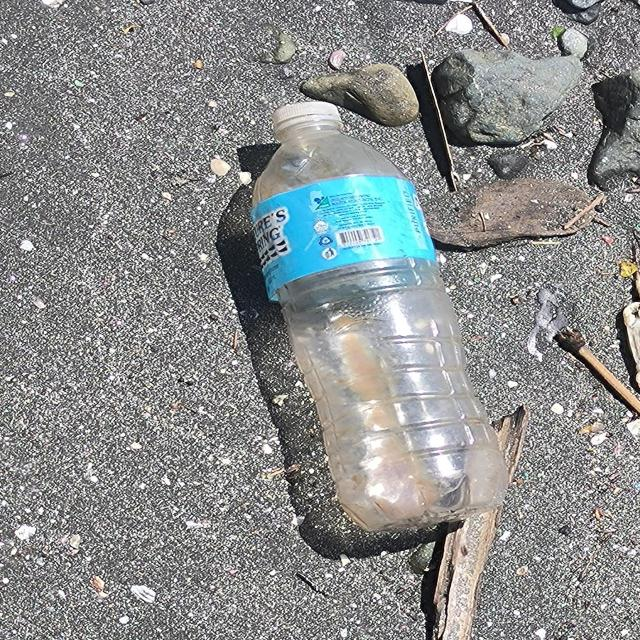plastic_waste: (245, 100, 515, 536)
